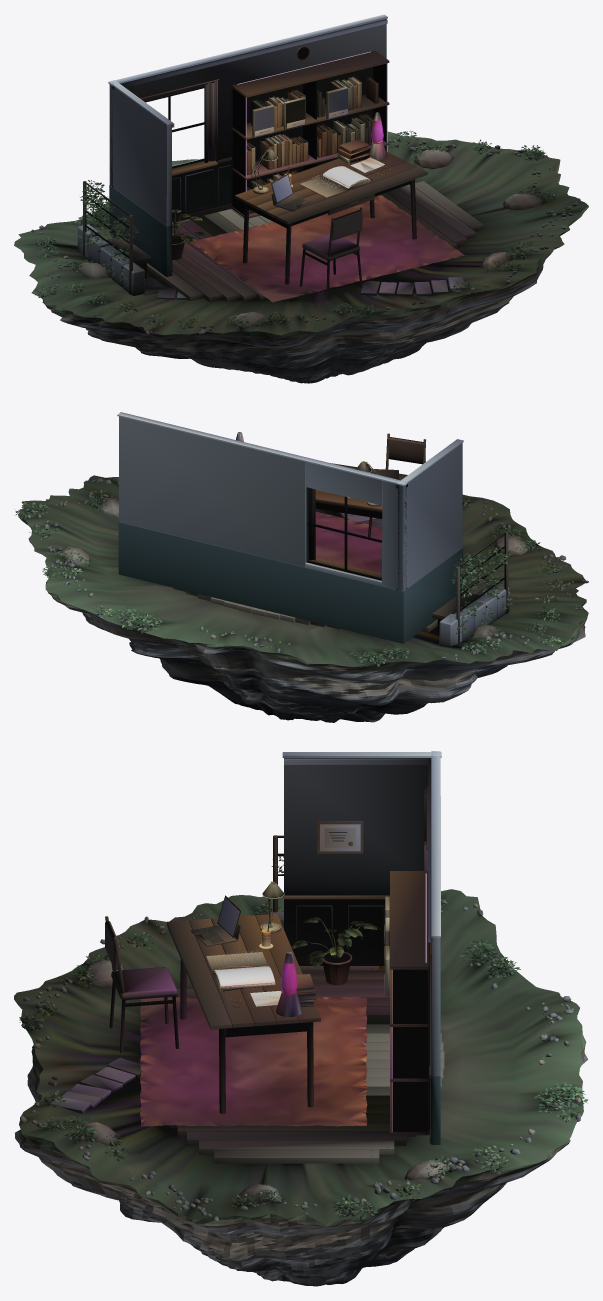
Rendered from flight-writing-949dd1de.glb.
3 renders of one model, top to bottom at view 1: azimuth 30°, elevation 25°; view 2: azimuth 150°, elevation 25°; view 3: azimuth 270°, elevation 25°, orthographic. The views are drawn at different scales.
Parts seen in each view (by area): view 1: Writing island · flight.001; view 2: Writing island · flight.001; view 3: Writing island · flight.001.
Boxes of the visible parts, x1,y1,x2,y2 form: Writing island · flight.001: [14, 14, 588, 383]; Writing island · flight.001: [15, 412, 588, 722]; Writing island · flight.001: [14, 751, 588, 1286].
Bounding box in the file's own units: 11.74 × 6.45 × 8.16.
